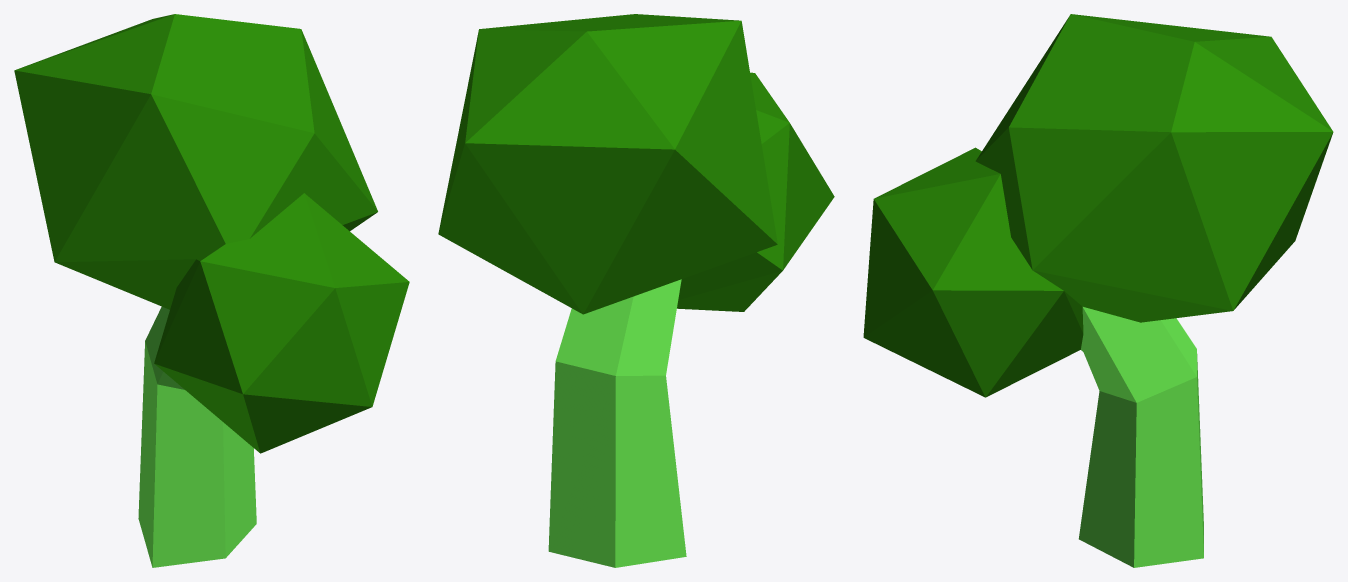
Rendered from broccoli02.obj.
3 views of the same model, side by side, from view 1: azimuth 30°, elevation 25°; view 2: azimuth 150°, elevation 25°; view 3: azimuth 270°, elevation 25° (orthographic). The views are drawn at different scales.
Visible parts, largest first — view 1: Cylinder; view 2: Cylinder; view 3: Cylinder.
Part boxes in pixels (bbox=[...]): Cylinder: bbox=[14, 14, 409, 567]; Cylinder: bbox=[438, 14, 834, 567]; Cylinder: bbox=[863, 14, 1333, 567].
Size of the model in its own units: 0.0373 by 0.0668 by 0.0554.
Materials: 1 (1 with a texture image).
